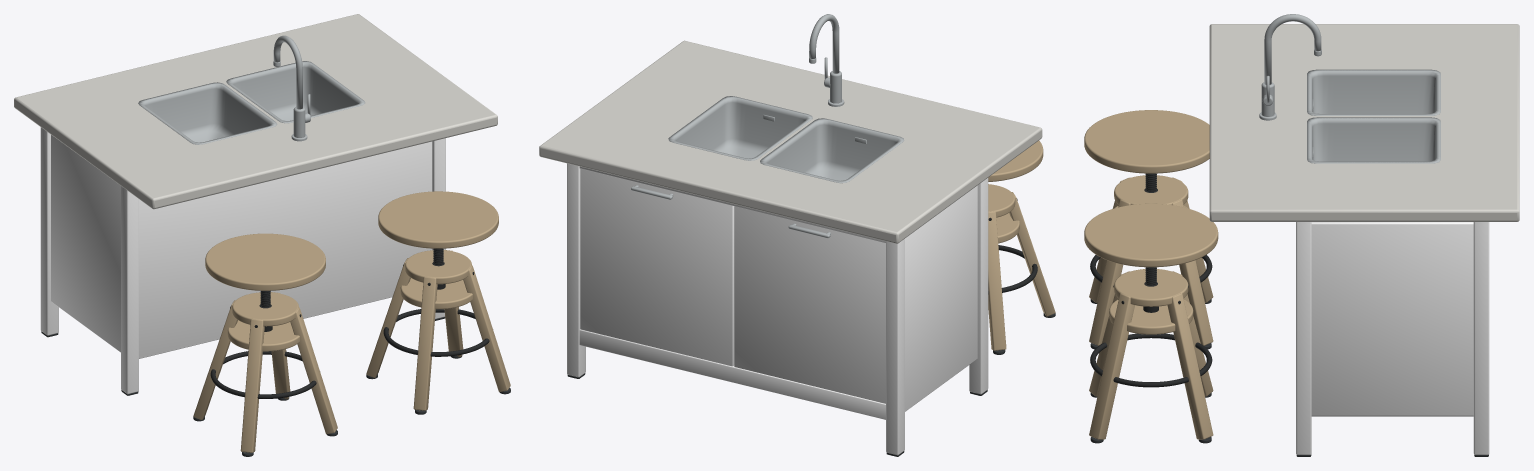
File: island-two-sink-detailed.glb
The picture shows the model from 3 angles, left to right: view 1: azimuth 30°, elevation 25°; view 2: azimuth 150°, elevation 25°; view 3: azimuth 270°, elevation 25°; orthographic projection. The views are drawn at different scales.
Visible parts, largest first — view 1: Thick eased island worktop, Recessed island rear panel, Recessed island end panel, Rounded timber stool seat.001, Rounded timber stool seat, Rounded stainless bowl and rim, Rounded stainless bowl and rim.001, Square island corner post, Square island corner post.001, Splayed timber stool leg.006, Splayed timber stool leg.002, Timber spindle support.001 (+13 smaller); view 2: Thick eased island worktop, Recessed sink island door.001, Recessed sink island door, Recessed island end panel, Rounded stainless bowl and rim, Rounded stainless bowl and rim.001, Island front cross rail, Square island corner post.001, Square island corner post.003, Square island corner post, Splayed timber stool leg.001, Splayed timber stool leg.002 (+5 smaller); view 3: Thick eased island worktop, Recessed island end panel.001, Rounded timber stool seat.001, Rounded timber stool seat, Rounded stainless bowl and rim.001, Rounded stainless bowl and rim, Square island corner post.003, Square island corner post.002, Splayed timber stool leg.004, Splayed timber stool leg.007, Timber spindle support.003, Timber spindle support.001 (+7 smaller).
Boxes of the visible parts, x1,y1,x2,y2 form: Thick eased island worktop: [14, 14, 497, 209]; Recessed island rear panel: [139, 141, 432, 357]; Recessed island end panel: [51, 135, 120, 352]; Rounded timber stool seat.001: [378, 191, 498, 248]; Rounded timber stool seat: [205, 233, 325, 290]; Rounded stainless bowl and rim: [138, 82, 277, 144]; Rounded stainless bowl and rim.001: [226, 61, 365, 123]; Square island corner post: [121, 186, 138, 394]; Square island corner post.001: [40, 127, 58, 335]; Splayed timber stool leg.006: [413, 276, 437, 410]; Splayed timber stool leg.002: [240, 318, 264, 452]; Timber spindle support.001: [232, 292, 298, 326]; Thick eased island worktop: [539, 40, 1042, 243]; Recessed sink island door.001: [580, 168, 734, 366]; Recessed sink island door: [734, 206, 885, 403]; Recessed island end panel: [905, 185, 977, 411]; Rounded stainless bowl and rim: [760, 118, 904, 183]; Rounded stainless bowl and rim.001: [668, 96, 812, 160]; Island front cross rail: [579, 329, 885, 419]; Square island corner post.001: [886, 239, 904, 455]; Square island corner post.003: [567, 163, 585, 377]; Square island corner post: [969, 178, 988, 394]; Splayed timber stool leg.001: [988, 211, 1006, 350]; Splayed timber stool leg.002: [1009, 192, 1055, 316]; Thick eased island worktop: [1209, 24, 1519, 221]; Recessed island end panel.001: [1311, 222, 1473, 415]; Rounded timber stool seat.001: [1084, 203, 1218, 267]; Rounded timber stool seat: [1084, 110, 1209, 173]; Rounded stainless bowl and rim.001: [1307, 117, 1440, 163]; Rounded stainless bowl and rim: [1307, 69, 1440, 115]; Square island corner post.003: [1473, 222, 1489, 454]; Square island corner post.002: [1296, 222, 1311, 454]; Splayed timber stool leg.004: [1167, 293, 1213, 439]; Splayed timber stool leg.007: [1089, 293, 1134, 439]; Timber spindle support.003: [1114, 269, 1188, 306]; Timber spindle support.001: [1114, 175, 1188, 204].
Bounding box in the file's own units: 1.42 × 1.26 × 1.4.
